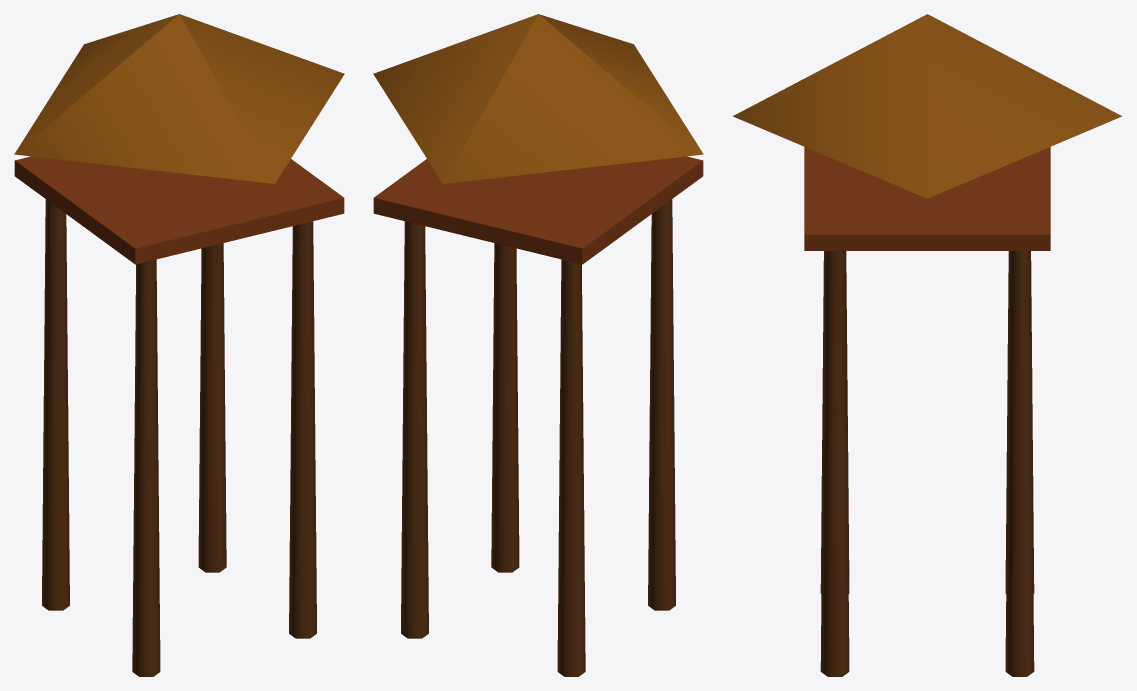
The model's file is sniper_fortress.glb.
3 renders of one model, left to right at view 1: azimuth 30°, elevation 25°; view 2: azimuth 150°, elevation 25°; view 3: azimuth 270°, elevation 25°, orthographic. The views are drawn at different scales.
Parts seen in each view (by area): view 1: SniperFortress; view 2: SniperFortress; view 3: SniperFortress.
Boxes of the visible parts, bbox=[...] form: SniperFortress: bbox=[14, 14, 344, 676]; SniperFortress: bbox=[373, 14, 703, 676]; SniperFortress: bbox=[733, 14, 1121, 676].
Bounding box in the file's own units: 7.6 × 13.3 × 7.6.
